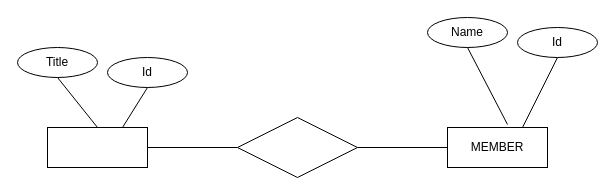
The diagram is 615 pixels wide and 195 high, and some of its shapes have lost their labels. Each missing label, with the centre of its shape:
"BOOK" goes at point (97, 147).
"ISSUED_TO" goes at point (297, 147).
